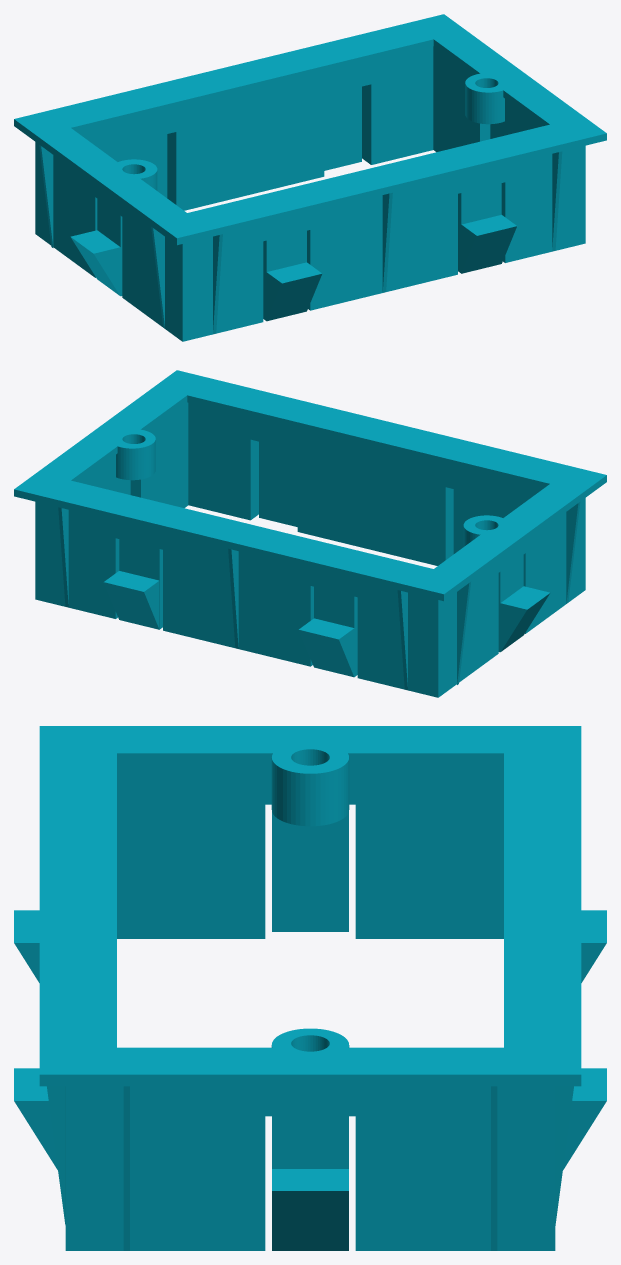
File: Brave Jarv-Jaiks.glb
The picture shows the model from 3 angles, top to bottom: view 1: azimuth 30°, elevation 25°; view 2: azimuth 150°, elevation 25°; view 3: azimuth 270°, elevation 25°; orthographic projection. The views are drawn at different scales.
Visible parts, largest first — view 1: Mesh_Mesh_head_geo.001_lambert2SG.001; view 2: Mesh_Mesh_head_geo.001_lambert2SG.001; view 3: Mesh_Mesh_head_geo.001_lambert2SG.001.
Boxes of the visible parts, x1=… form: Mesh_Mesh_head_geo.001_lambert2SG.001: x1=14, y1=14, x2=606, y2=341; Mesh_Mesh_head_geo.001_lambert2SG.001: x1=14, y1=370, x2=606, y2=697; Mesh_Mesh_head_geo.001_lambert2SG.001: x1=14, y1=726, x2=606, y2=1250.
Bounding box in the file's own units: 0.1079 × 0.0254 × 0.073.
